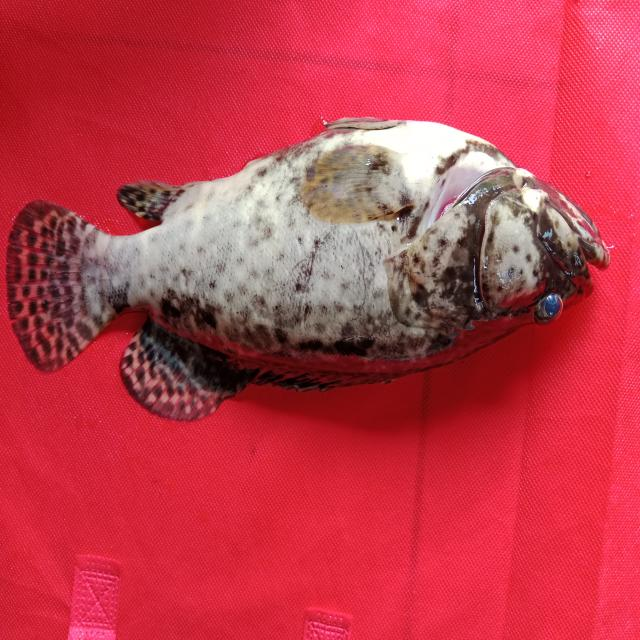ikan: (6, 115, 612, 422)
